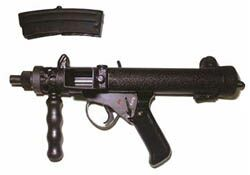rifle: (12, 52, 242, 165)
